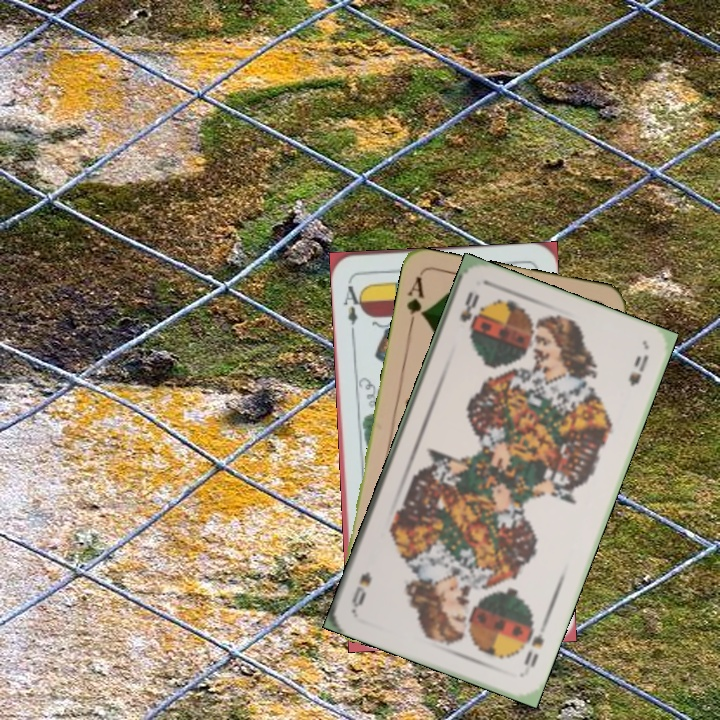EA: (339, 276, 366, 327)
GA: (402, 272, 428, 331)
SO: (456, 287, 482, 333), (520, 630, 547, 670)
